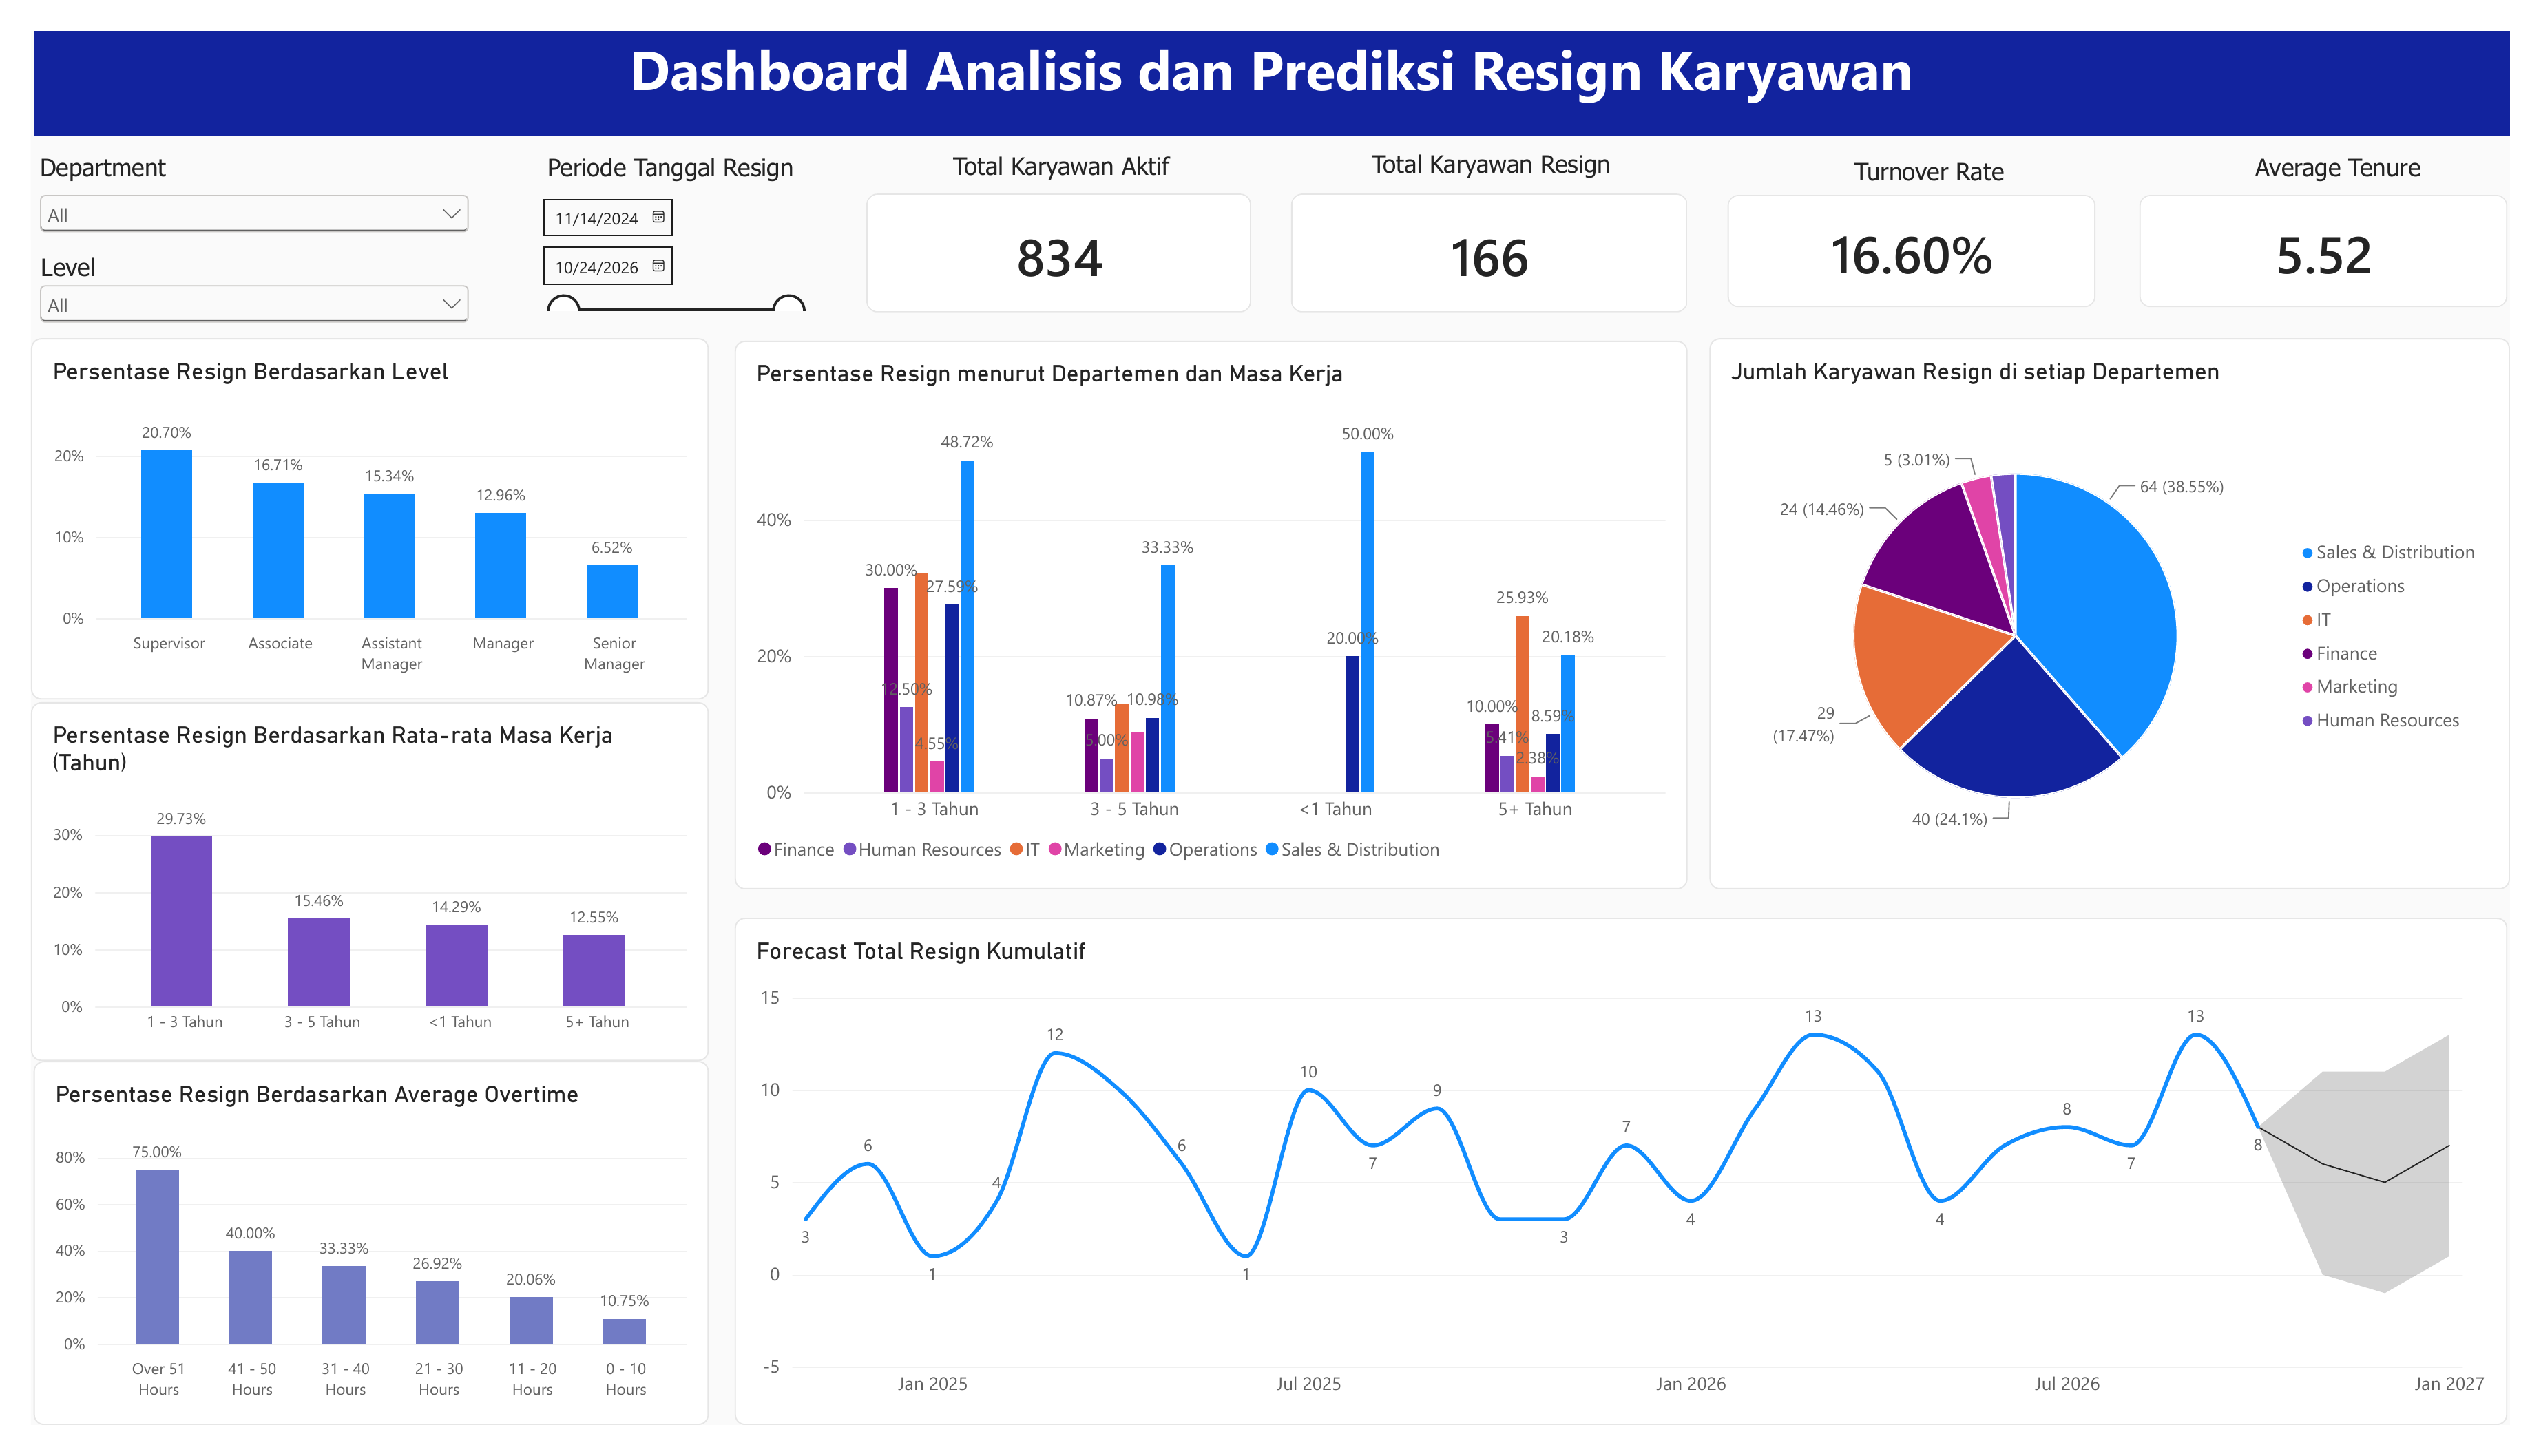

The page's visual inventory and layout, read from the dashboard file:
{"tool":"powerbi","page":{"name":"Page 1","canvas":[1920,1080],"ordinal":0},"visuals":[{"type":"group","id":"g1","title":"Group 1","box":[0,0,1920,798.3],"z":0},{"type":"pieChart","title":"Jumlah Karyawan Resign di setiap Departemen","fields":{"Category":["Data.department"],"Y":["CountNonNull(Data.employee_id)"]},"box":[1300,238.3,620,426.7],"z":0,"group":"g1"},{"type":"cardVisual","fields":{"Data":["Count(Data.employee_id)"]},"box":[647.3,125.7,298.6,92.9],"z":1000,"group":"g1"},{"type":"lineChart","title":"Forecast Total Resign Kumulatif","fields":{"Category":["Data.resign_date.Variation.Date Hierarchy.Year","Data.resign_date.Variation.Date Hierarchy.Month"],"Y":["CountNonNull(Data.employee_id)"]},"box":[545,686.7,1373.3,393.3],"z":1000},{"type":"columnChart","title":"Persentase Resign Berdasarkan Level","fields":{"Category":["Data.level"],"Y":["Data.Persen Resign"]},"box":[0,238.3,525,280],"z":2000,"group":"g1"},{"type":"columnChart","title":"Persentase Resign Berdasarkan Average Overtime","fields":{"Category":["Data.Ovetime"],"Y":["Data.Persen Resign"]},"box":[1.7,798.3,523.3,281.7],"z":2000},{"type":"clusteredColumnChart","title":"Persentase Resign menurut Departemen dan Masa Kerja","fields":{"Category":["Data.Tenure Class"],"Series":["Data.department"],"Y":["Data.Turnover Rate"]},"box":[545,240,738.3,425],"z":3000,"group":"g1"},{"type":"cardVisual","fields":{"Data":["CountNonNull(Data.employee_id)"]},"box":[975.9,125.7,307.1,92.9],"z":4000,"group":"g1"},{"type":"cardVisual","fields":{"Data":["Data.Resignation Share"]},"box":[1314.4,127.1,285.7,87.1],"z":5000,"group":"g1"},{"type":"cardVisual","fields":{"Data":["Data.Average Tenure"]},"box":[1633,127.1,285.7,87.1],"z":6000,"group":"g1"},{"type":"textbox","box":[7.7,170.8,153.8,42.5],"z":7000,"group":"g1"},{"type":"textbox","box":[1.5,0,1918,81],"z":8000,"group":"g1"},{"type":"clusteredColumnChart","title":"\tPersentase Resign Berdasarkan Rata-rata Masa Kerja (Tahun)","fields":{"Category":["Data.Tenure Class"],"Y":["Data.Persen Resign"]},"box":[0,520,525,278.3],"z":9000,"group":"g1"},{"type":"slicer","fields":{"Values":["Data.department"]},"box":[1.5,121.5,342.3,49.2],"z":10000,"group":"g1"},{"type":"textbox","box":[7,94.4,204.7,54.5],"z":11000,"group":"g1"},{"type":"slicer","fields":{"Values":["Data.level"]},"box":[1.5,192.3,342.5,47],"z":12000,"group":"g1"},{"type":"slicer","fields":{"Values":["Data.resign_date"]},"box":[389.1,125,213.8,92],"z":13000,"group":"g1"},{"type":"textbox","box":[361.3,93.8,268.6,38.5],"z":14000,"group":"g1"},{"type":"textbox","box":[675.9,92.9,243.9,33.8],"z":15000,"group":"g1"},{"type":"textbox","box":[1008.7,91.4,243.9,30.8],"z":16000,"group":"g1"},{"type":"textbox","box":[1384.4,97.1,172.9,30],"z":17000,"group":"g1"},{"type":"textbox","box":[1695.2,93.8,183.6,37.7],"z":18000,"group":"g1"}]}

Visuals, with their boxes in screenshot pixels (x1, y1, x2, y2), scaled from the page's 1920x1080 canvas onto the 2541x1456 screenshot:
"Group 1" group: [0, 0, 2540, 1076]
"Jumlah Karyawan Resign di setiap Departemen" pieChart: [1720, 321, 2540, 896]
cardVisual - Count(Data.employee_id): [857, 169, 1252, 295]
"Forecast Total Resign Kumulatif" lineChart: [721, 926, 2539, 1455]
"Persentase Resign Berdasarkan Level" columnChart: [0, 321, 695, 699]
"Persentase Resign Berdasarkan Average Overtime" columnChart: [2, 1076, 695, 1455]
"Persentase Resign menurut Departemen dan Masa Kerja" clusteredColumnChart: [721, 324, 1698, 896]
cardVisual - CountNonNull(Data.employee_id): [1292, 169, 1698, 295]
cardVisual - Data.Resignation Share: [1739, 171, 2117, 288]
cardVisual - Data.Average Tenure: [2161, 171, 2540, 288]
textbox: [10, 230, 213, 288]
textbox: [2, 0, 2540, 109]
"	Persentase Resign Berdasarkan Rata-rata Masa Kerja (Tahun)" clusteredColumnChart: [0, 701, 695, 1076]
slicer - Data.department: [2, 164, 455, 230]
textbox: [9, 127, 280, 201]
slicer - Data.level: [2, 260, 455, 323]
slicer - Data.resign_date: [515, 169, 798, 293]
textbox: [478, 127, 834, 178]
textbox: [895, 125, 1217, 171]
textbox: [1335, 123, 1658, 165]
textbox: [1832, 131, 2061, 171]
textbox: [2244, 127, 2487, 178]
